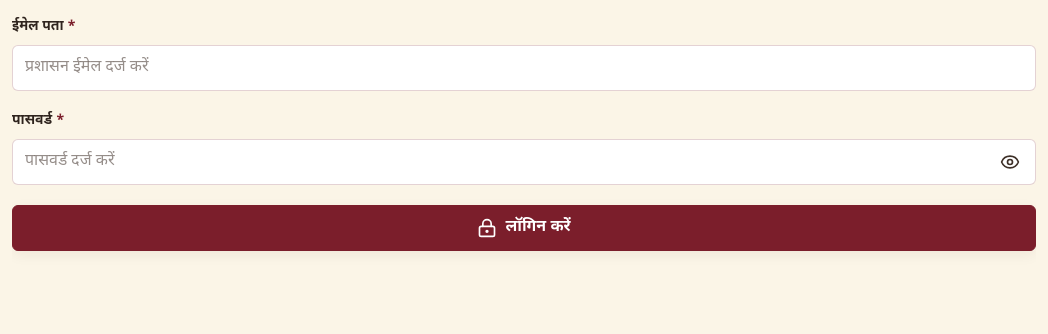
Test case: AdminLoginForm › submits normalized credentials and shows a generic error on failure
The image size is (1048, 334).
Type " ADMIN@EXAMPLE.TEST " into the field labelled "ईमेल पता *". click: (524, 68)
box: x1=12 y1=45 x2=1036 y2=91
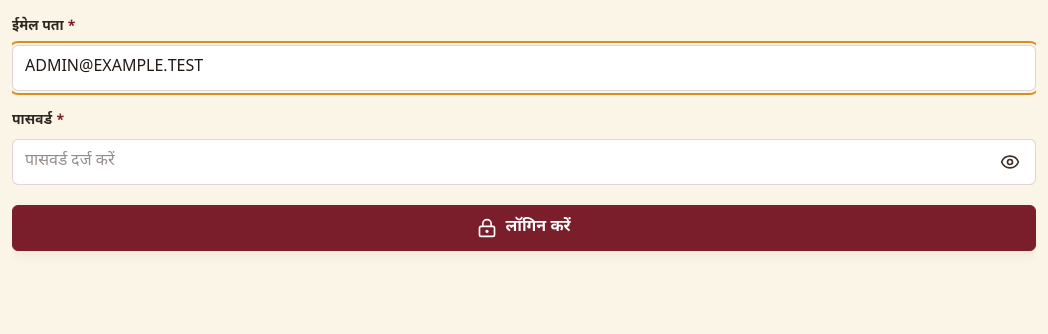
Type "password" into the password field with placeholder "पासवर्ड दर्ज करें". click: (524, 162)
box: x1=12 y1=139 x2=1036 y2=185
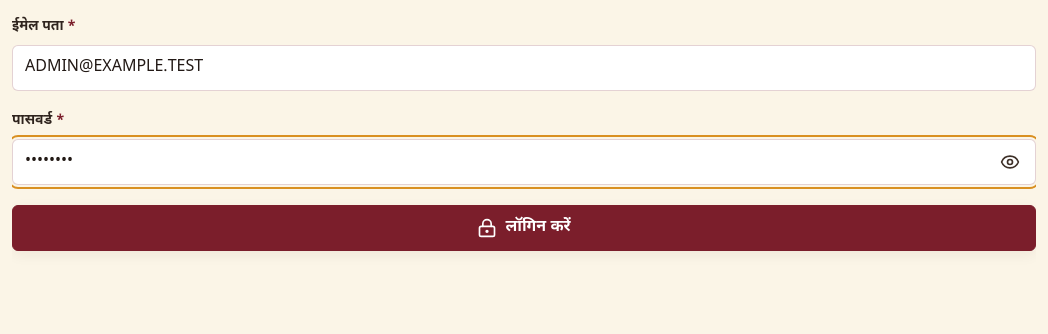
Click the button "लॉगिन करें". click: (524, 228)
box: x1=12 y1=205 x2=1036 y2=251
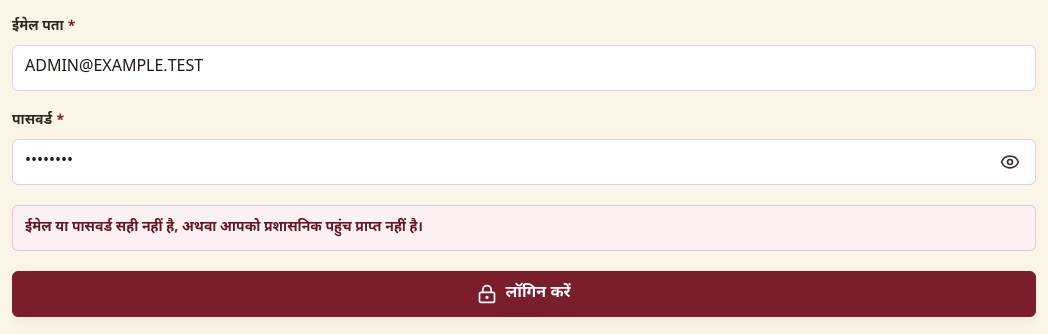
Check: the text "ईमेल या पासवर्ड सही नहीं है, अथवा आपको प्रशासनिक पहुंच प्राप्त नहीं है।" is shown, box x1=12 y1=205 x2=1036 y2=251
